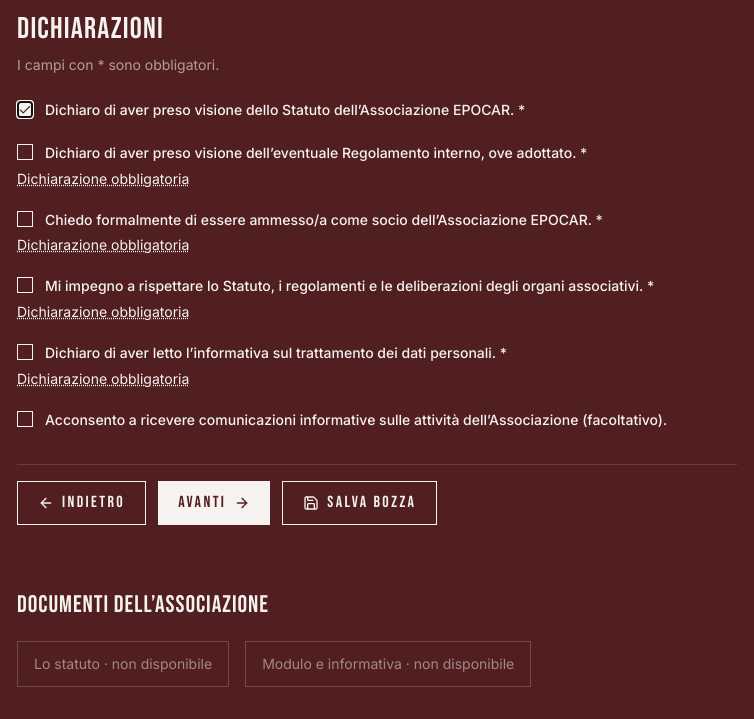
Test: membership application using synthetic data only › completes the four steps, keeps optional consent off, and submits only on confirmation
Earlier steps of the test are not shown.
(page scrolled)
Click the 2nd checkbox: (25, 152) left=17, top=144, right=33, bottom=160
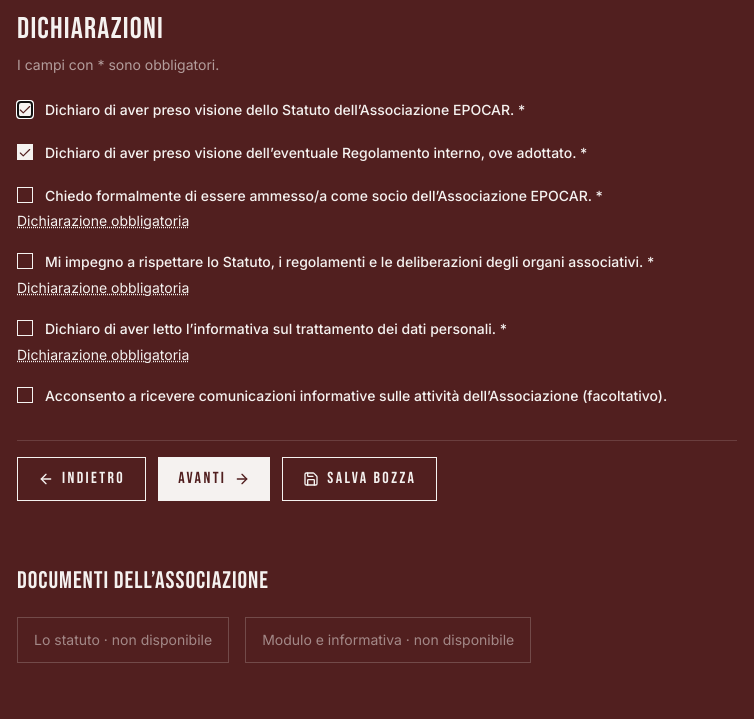
Click the 3rd checkbox: (25, 194) left=17, top=186, right=33, bottom=202
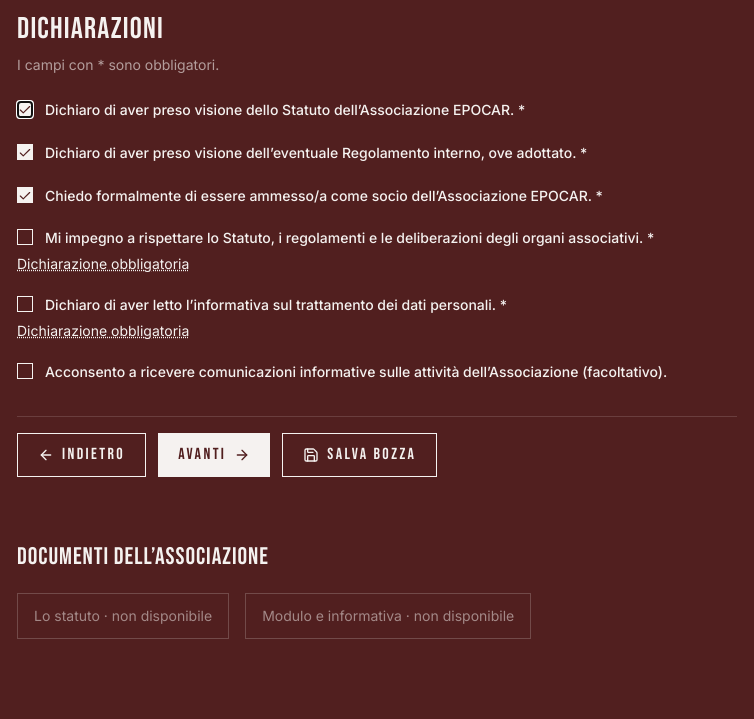
Click the 4th checkbox: (25, 237) left=17, top=229, right=33, bottom=245
(page scrolled)
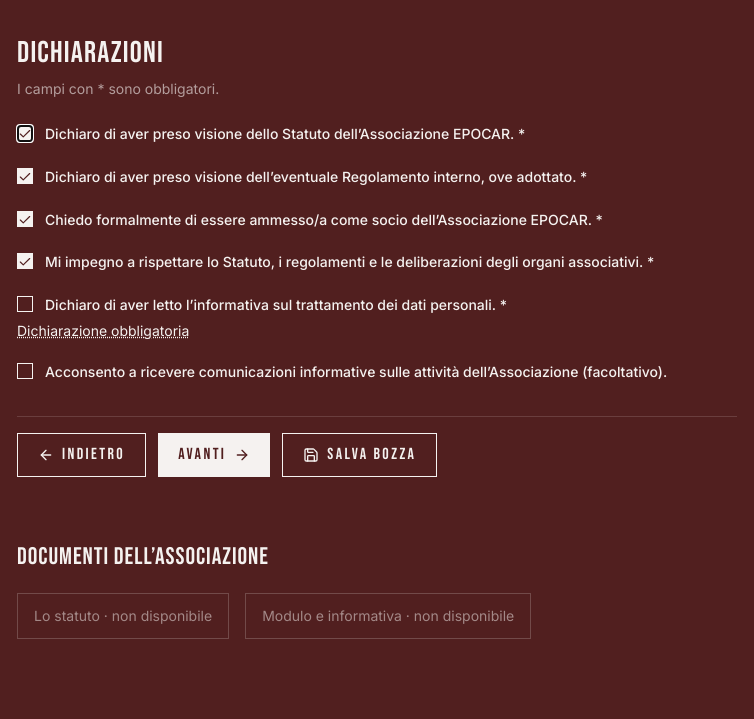
Click the 5th checkbox: (25, 304) left=17, top=296, right=33, bottom=312
(page scrolled)
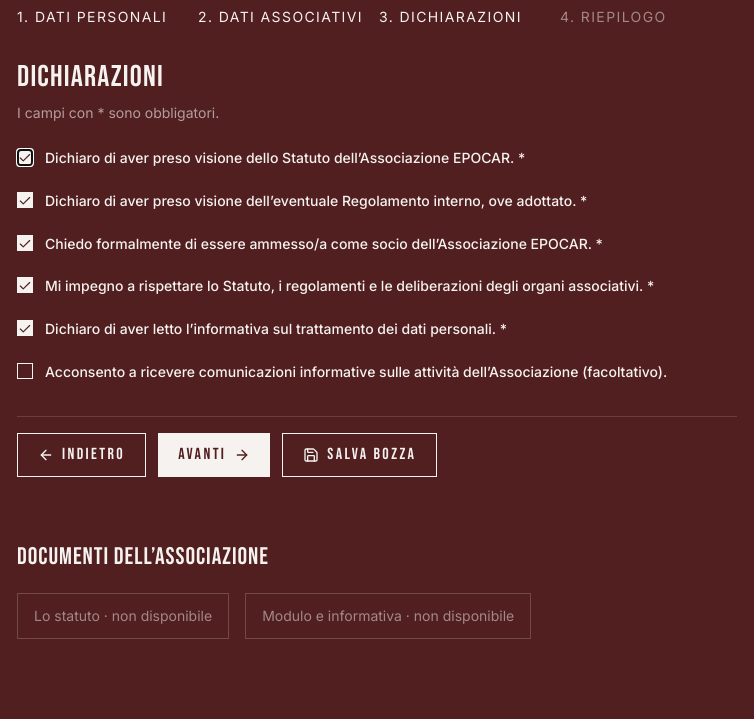
Click the button "Avanti": (214, 454) left=158, top=432, right=270, bottom=476
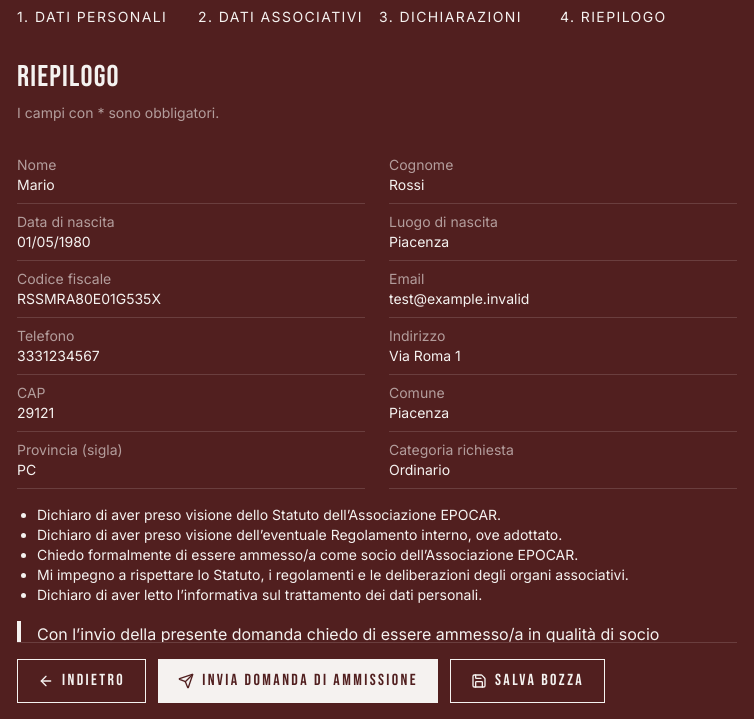
Expected: the heading "Riepilogo" is shown, left=17, top=59, right=120, bottom=95
Click the button "Invia domanda di ammissione": (298, 681) left=158, top=659, right=438, bottom=703
(page scrolled)
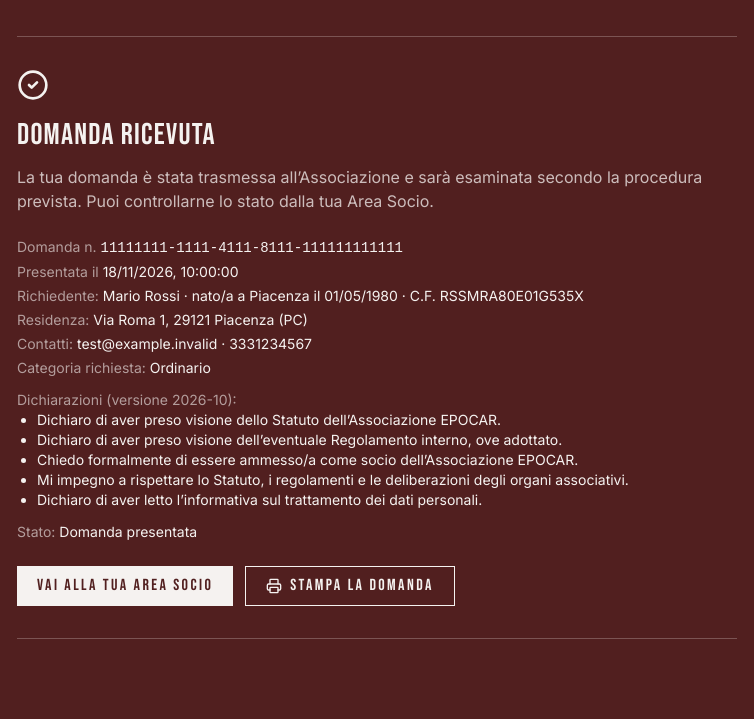
Expected: the heading "Domanda ricevuta" is shown, left=17, top=117, right=216, bottom=153
